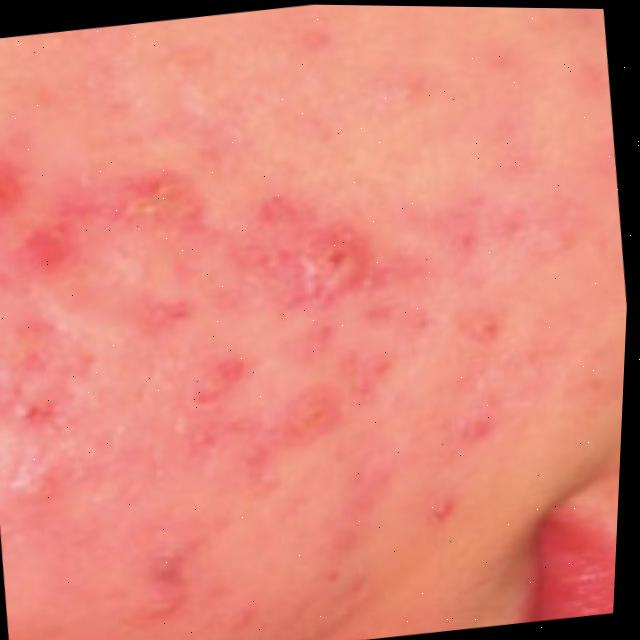Acne: (0, 68, 569, 610)
